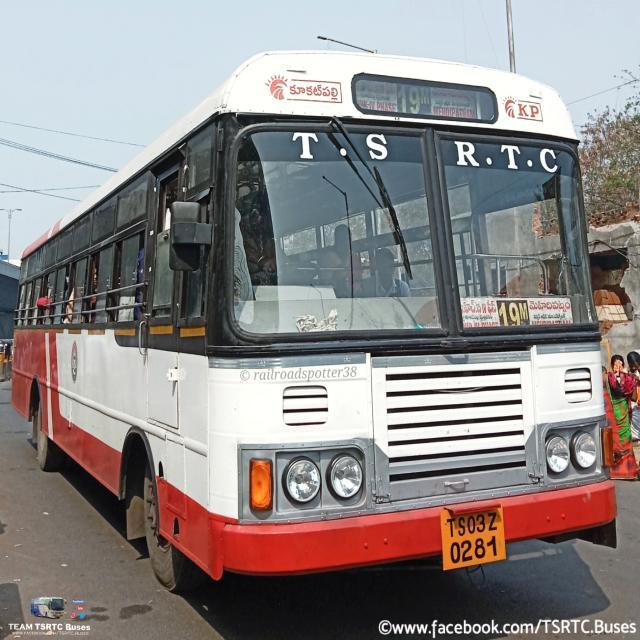Bus: (8, 50, 616, 587)
